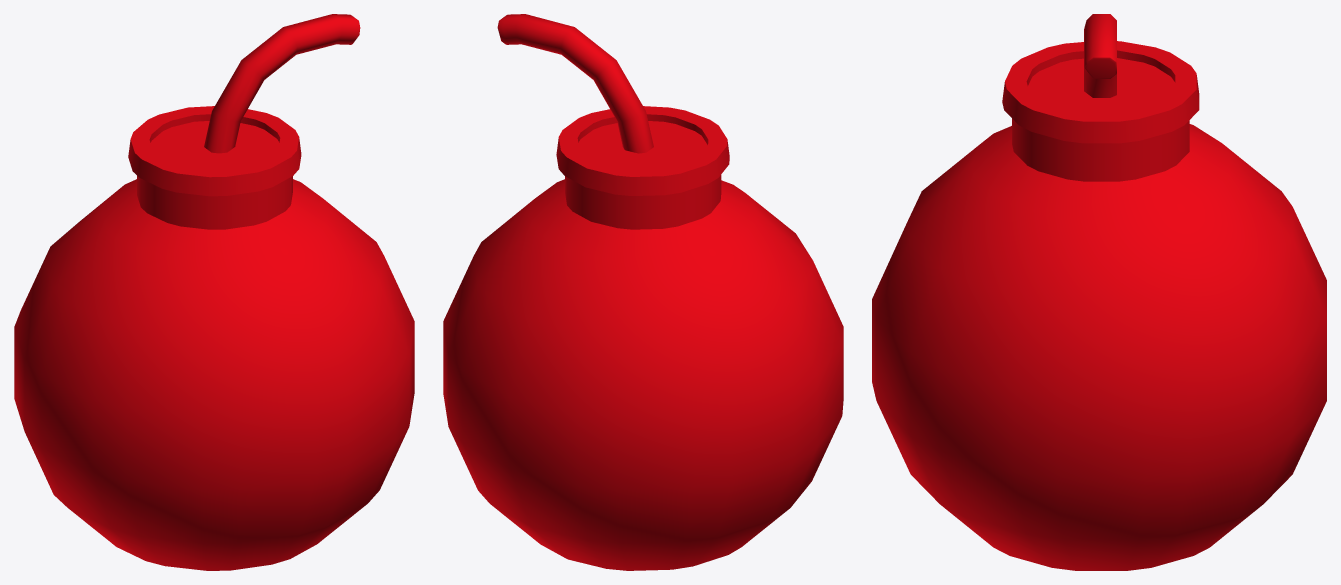
File: Bomb.fbx
3 renders of one model, left to right at view 1: azimuth 30°, elevation 25°; view 2: azimuth 150°, elevation 25°; view 3: azimuth 270°, elevation 25°, orthographic. The views are drawn at different scales.
Parts seen in each view (by area): view 1: bomb_low; view 2: bomb_low; view 3: bomb_low.
Part boxes in pixels (bbox=[...]): bomb_low: bbox=[14, 14, 414, 570]; bomb_low: bbox=[443, 14, 843, 570]; bomb_low: bbox=[872, 14, 1326, 570].
Bounding box in the file's own units: 1.94 × 2.73 × 1.94.
